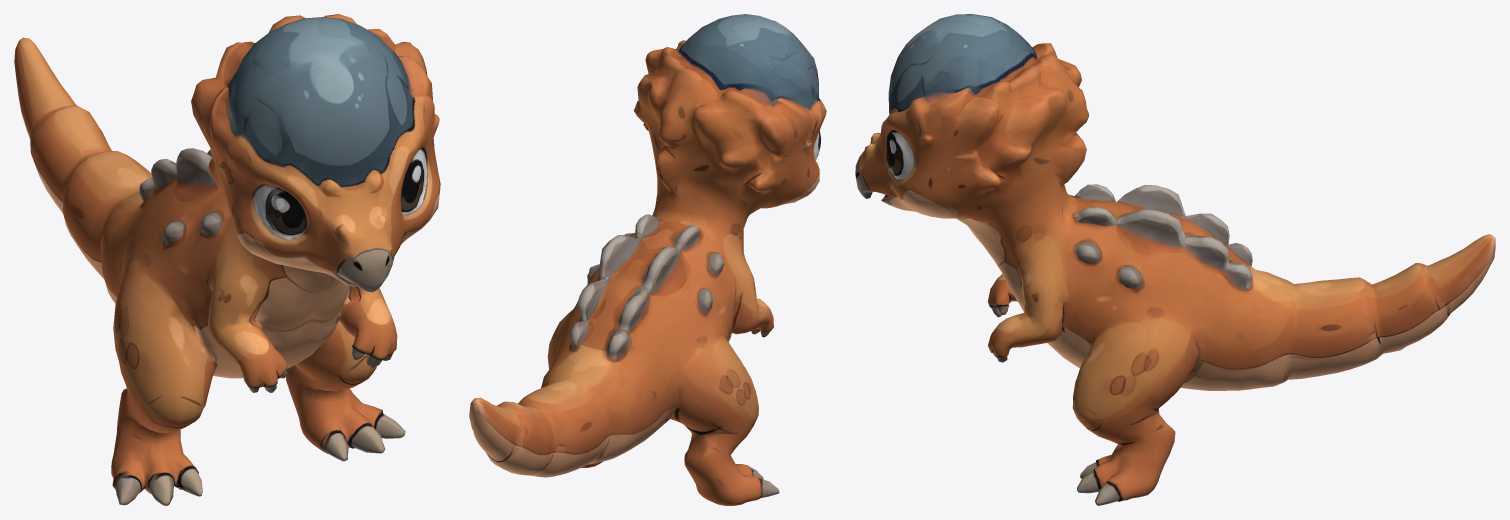
File: Pokemon roca 1_1.glb
3 views of the same model, side by side, from view 1: azimuth 30°, elevation 25°; view 2: azimuth 150°, elevation 25°; view 3: azimuth 270°, elevation 25° (orthographic). The views are drawn at different scales.
Bounding box in the file's own units: 0.4058 × 0.6938 × 0.9531.
1 material, 1 textured.
